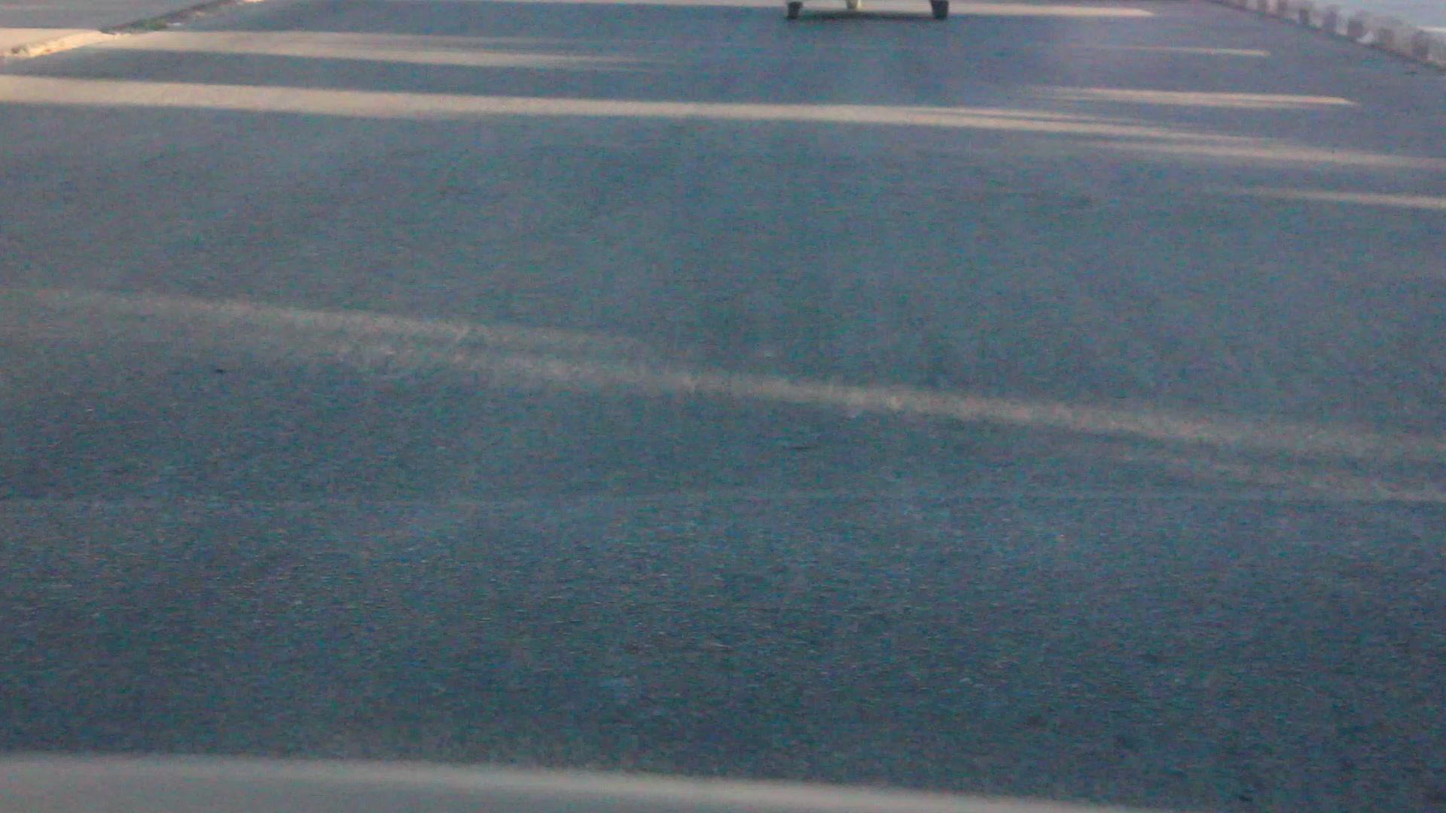Bump: (0, 484, 1446, 813)
